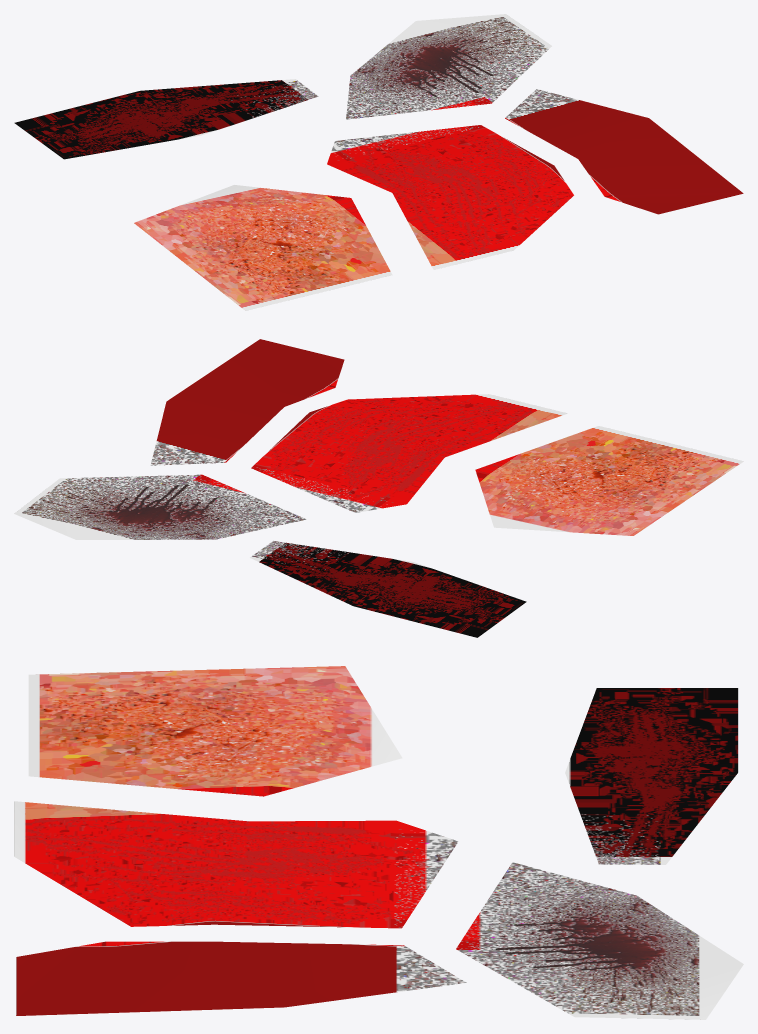
Rendered from blood.fbx.
The picture shows the model from 3 angles, top to bottom: view 1: azimuth 30°, elevation 25°; view 2: azimuth 150°, elevation 25°; view 3: azimuth 270°, elevation 25°; orthographic projection. The views are drawn at different scales.
Visible parts, largest first — view 1: blood_05, blood_04, blood_03, blood_02, blood_01; view 2: blood_05, blood_04, blood_03, blood_02, blood_01; view 3: blood_05, blood_04, blood_03, blood_02, blood_01.
Boxes of the visible parts, box(x1,y1,x2,y2) form: blood_05: box(327, 125, 573, 269); blood_04: box(134, 185, 392, 310); blood_03: box(346, 14, 551, 119); blood_02: box(505, 89, 743, 214); blood_01: box(14, 79, 318, 159); blood_05: box(251, 394, 567, 512); blood_04: box(475, 426, 743, 535); blood_03: box(14, 474, 306, 539); blood_02: box(150, 339, 344, 465); blood_01: box(250, 541, 526, 637); blood_05: box(14, 801, 458, 928); blood_04: box(28, 666, 402, 796); blood_03: box(456, 862, 743, 1019); blood_02: box(16, 941, 466, 1015); blood_01: box(565, 688, 738, 864).
Bounding box in the file's own units: 956 × 11.17 × 854.
